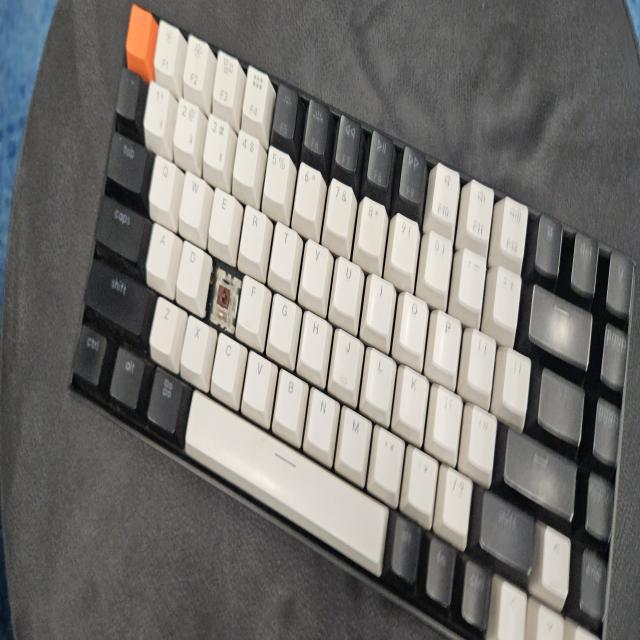C: (213, 271, 232, 323)
